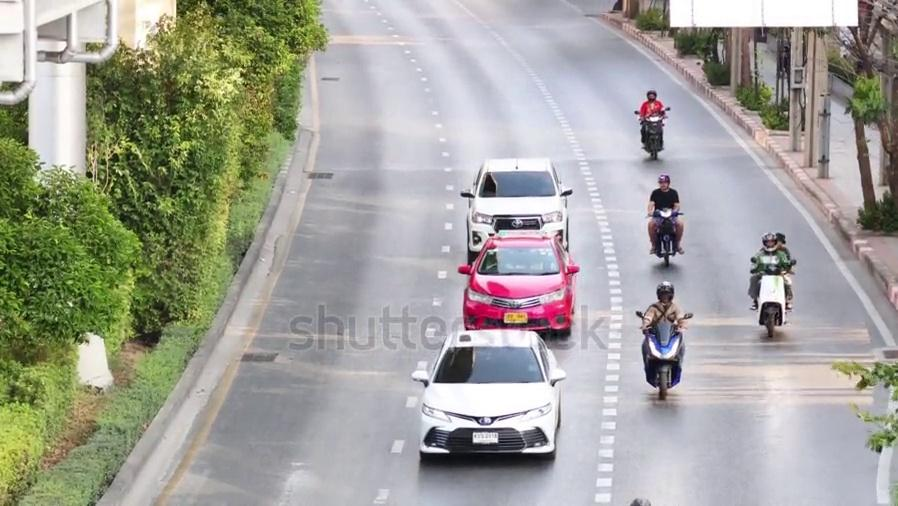rider: (639, 280, 688, 386), (748, 231, 794, 311), (646, 173, 684, 254), (637, 90, 665, 149)
with_helmate: (652, 281, 676, 307), (758, 233, 780, 254), (656, 176, 671, 191), (644, 90, 659, 104)
